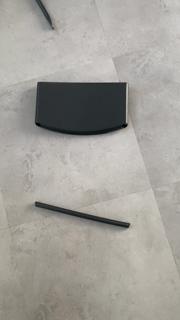Back: (34, 78, 133, 140)
i pipe: (34, 197, 134, 236)
